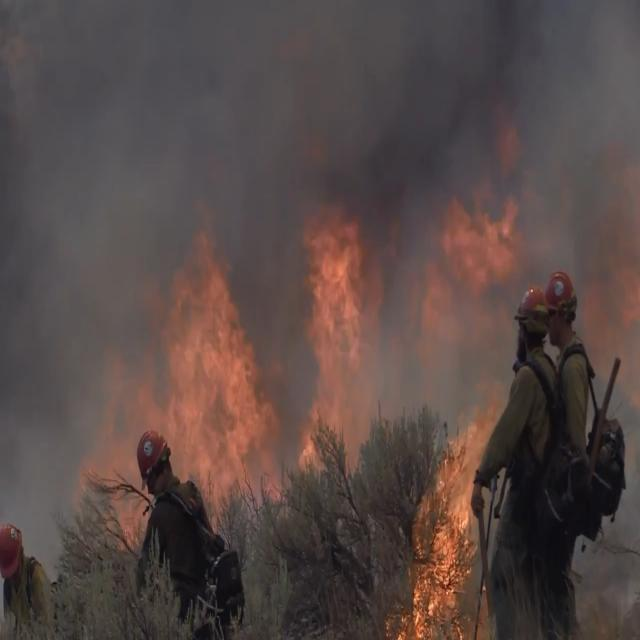Fire: (114, 141, 530, 640)
